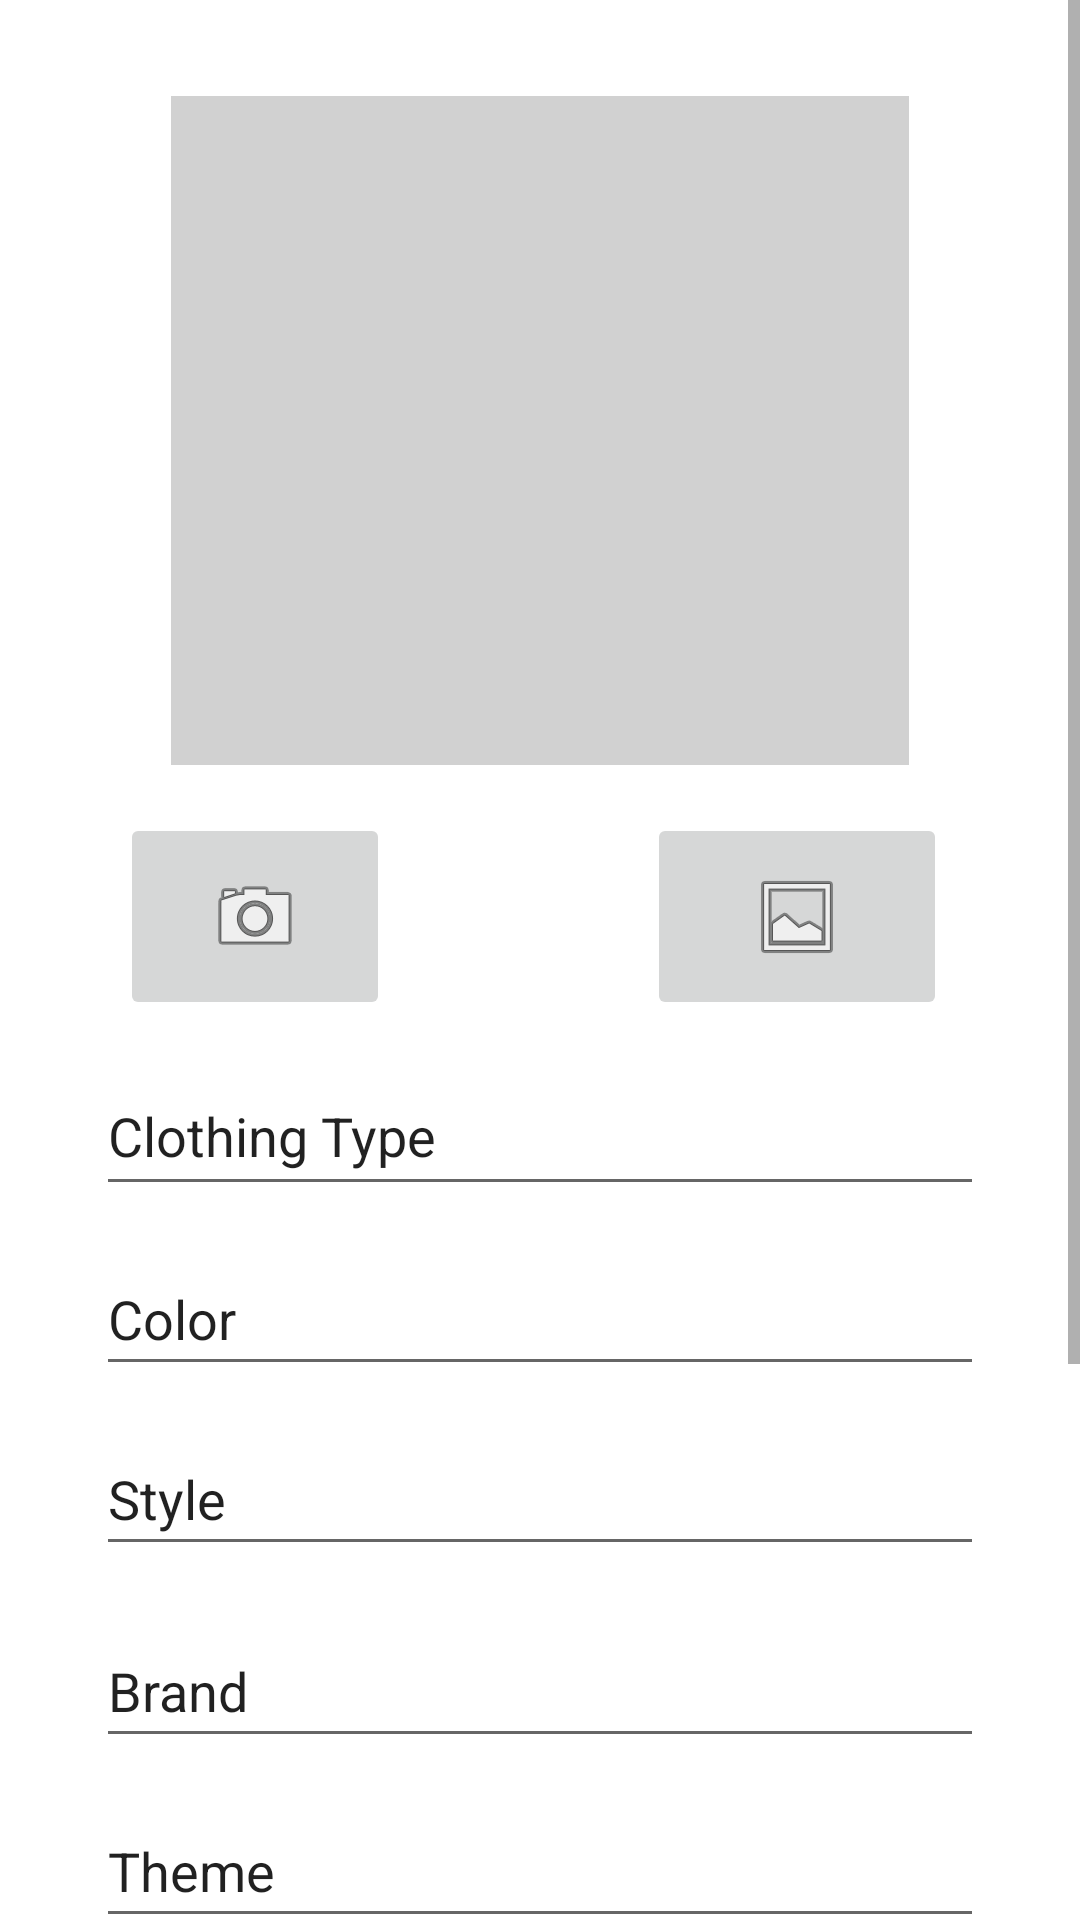

Icon click points for this 1080x1920 phone screenshot, format (x=x, y=y):
camera: (x=255, y=916)
gallery: (x=797, y=916)
